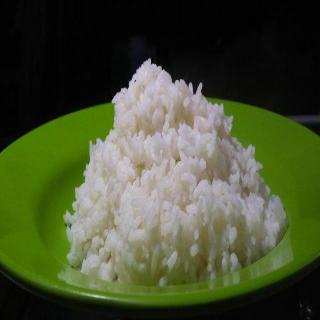Nasi: (63, 57, 290, 288)
